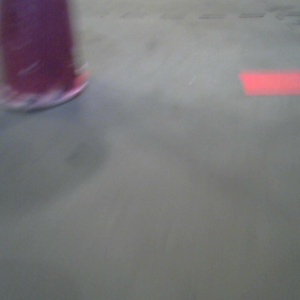middle: (1, 1, 89, 112)
